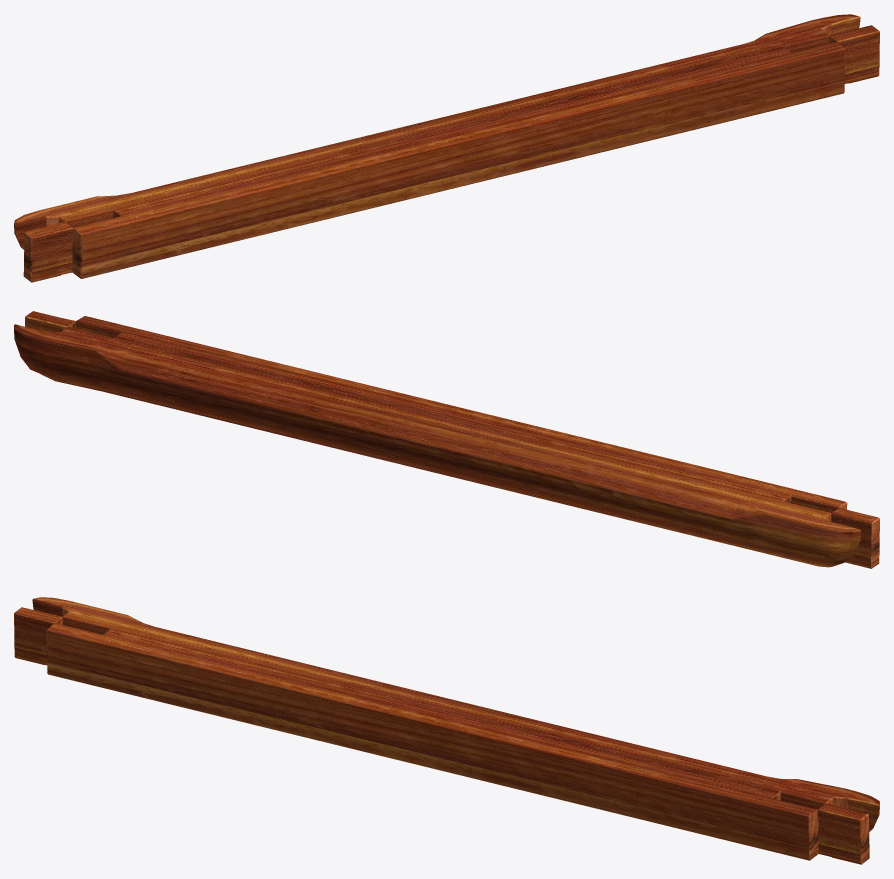
Rendered from quanyi_J_qianjiaozhang.FBX.
3 renders of one model, top to bottom at view 1: azimuth 30°, elevation 25°; view 2: azimuth 150°, elevation 25°; view 3: azimuth 330°, elevation 25°, orthographic.
Visible parts, largest first — view 1: quanyi_J_qianjiaozhang; view 2: quanyi_J_qianjiaozhang; view 3: quanyi_J_qianjiaozhang.
Part boxes in pixels (bbox=[...]): quanyi_J_qianjiaozhang: bbox=[14, 14, 879, 282]; quanyi_J_qianjiaozhang: bbox=[14, 311, 879, 568]; quanyi_J_qianjiaozhang: bbox=[14, 597, 879, 864].
Bounding box in the file's own units: 57.69 × 3.1 × 4.48.
2 materials, 2 textured.
